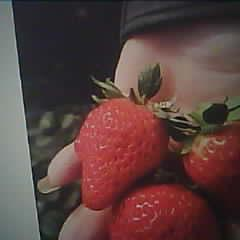straw-ripe: (76, 97, 166, 209)
